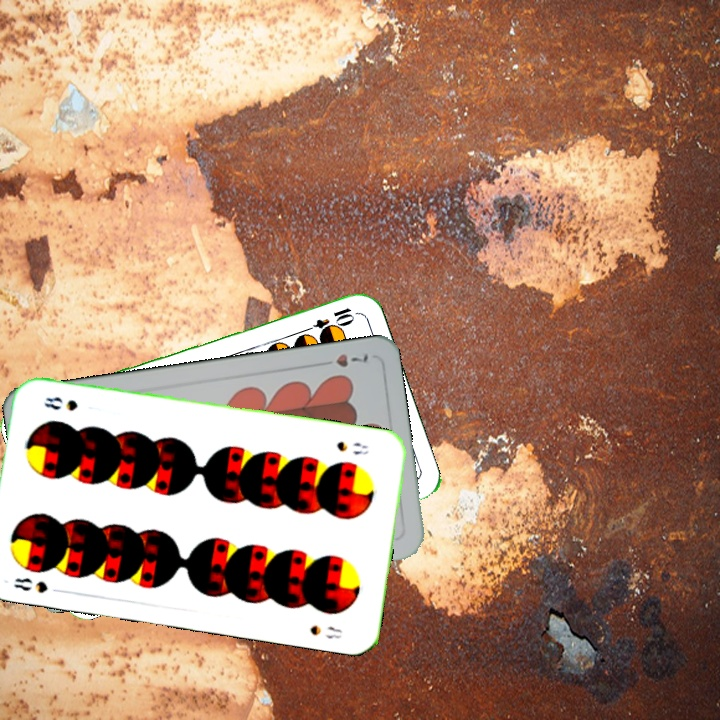E10: (299, 303, 357, 338)
H7: (315, 349, 371, 370)
S8: (10, 573, 66, 596), (333, 437, 372, 457)
